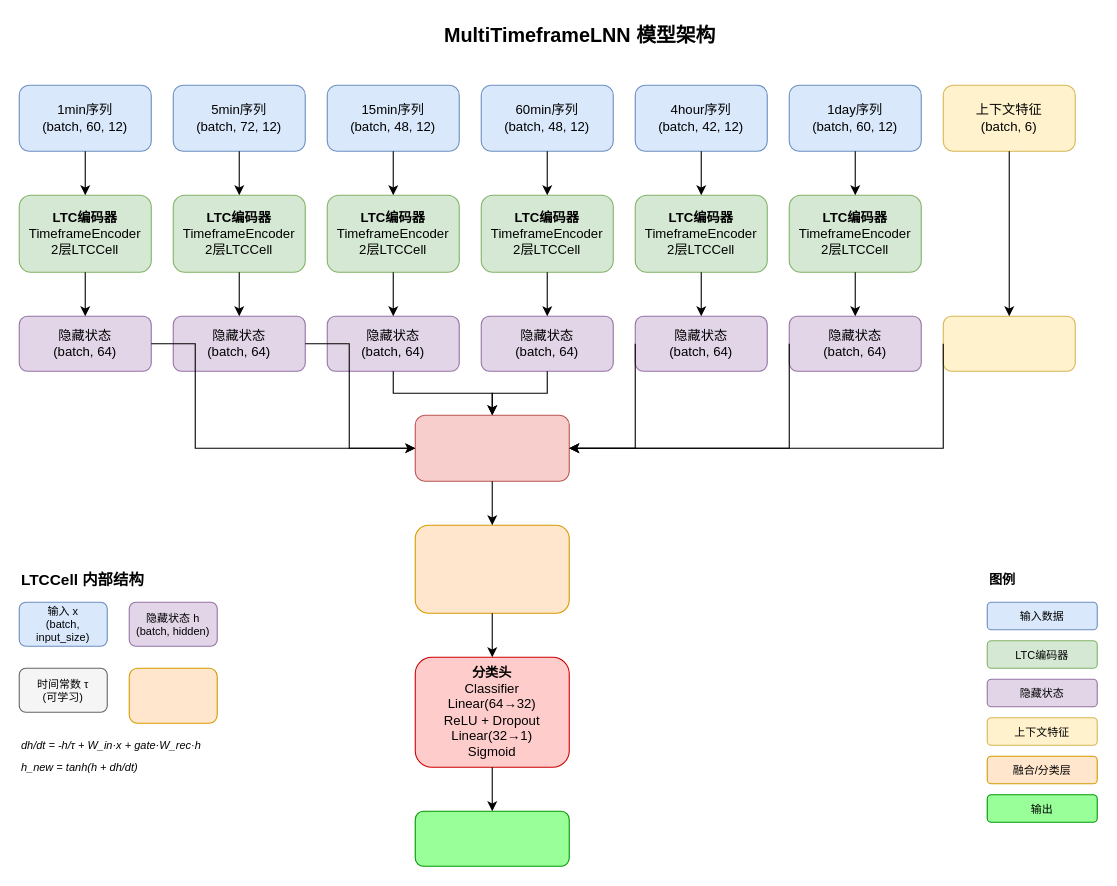
Image size: 1117x886. Some labels were removed from this diagram. Each missing label, with the centre of its shape:
"上下文 (batch, 6)" belongs at (x=1008, y=343).
"拼接层 Concatenate (batch, 390)" belongs at (x=491, y=447).
"融合层 Fusion Linear(390→64) ReLU + Dropout(0.3)" belongs at (x=491, y=568).
"输出 上涨概率 (batch,)" belongs at (x=491, y=838).
"门控网络 Gate Net Sigmoid" belongs at (x=172, y=695).
